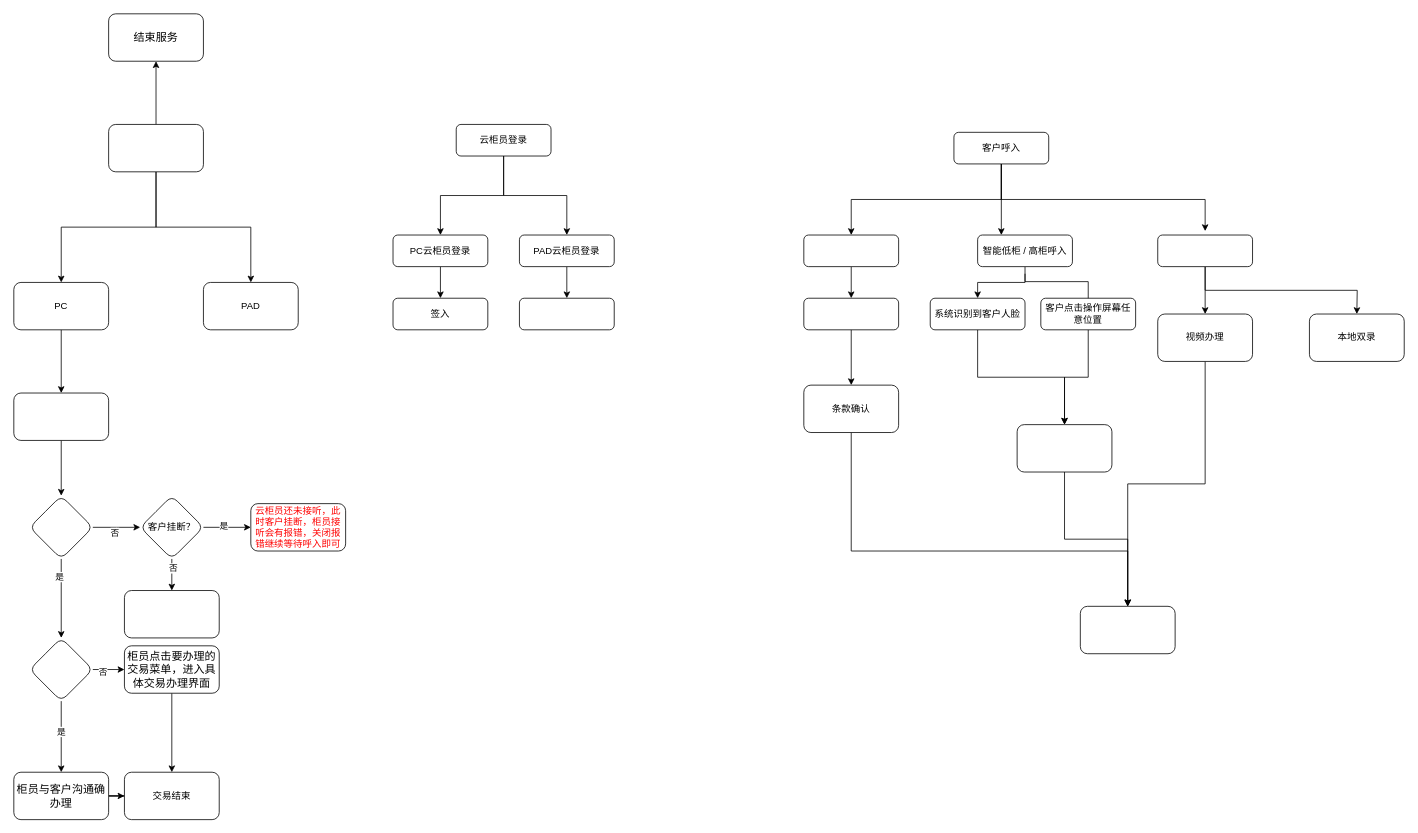
This 1418x833 diagram has some shape labels left out. The shapes that lost their labels are listed below. From the top down, each one's centre as x and y in pixels, then its label:
At (x=155, y=148): "云柜员接听".
At (x=851, y=250): "手机银行呼入".
At (x=1205, y=250): "迷你器具呼入".
At (x=566, y=313): "默认签入（可手动切换签入状态）".
At (x=851, y=313): "选择云柜员".
At (x=61, y=416): "呼入振铃".
At (x=1064, y=448): "呼叫远程柜员".
At (x=61, y=527): "是否接听？".
At (x=1127, y=630): "等待坐席进线".
At (x=61, y=669): "用户选择交易呼入？".
